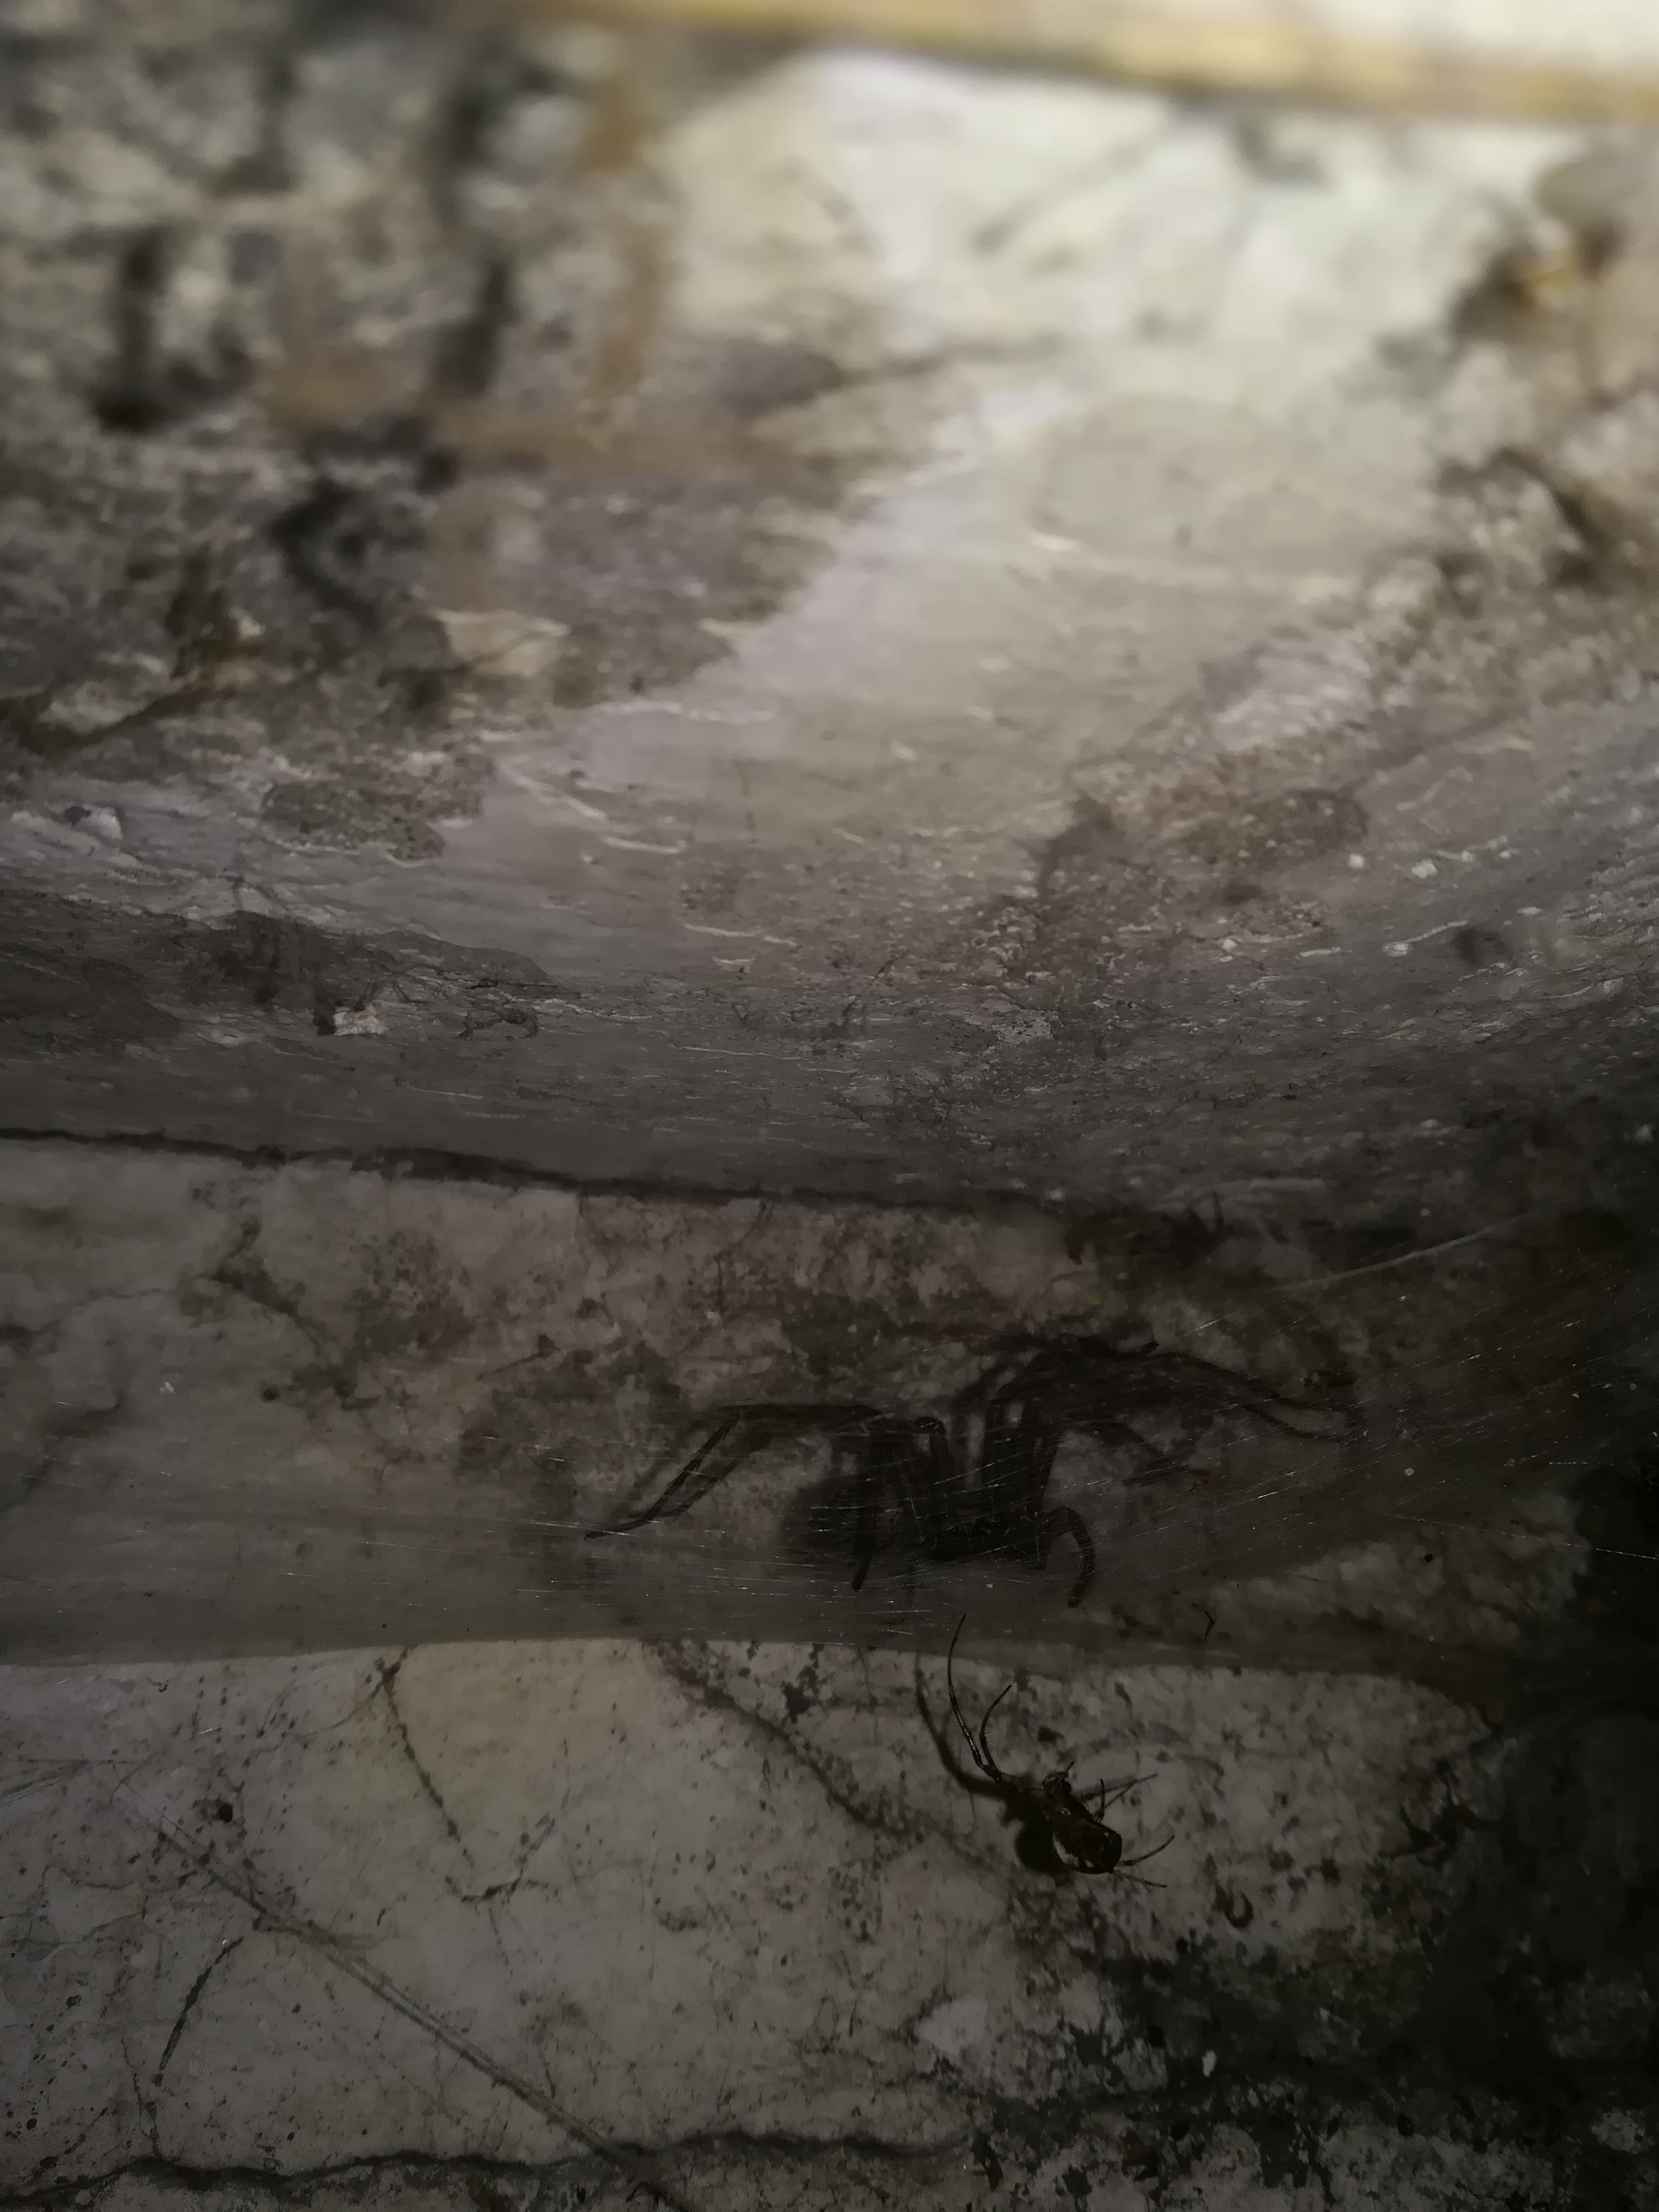spider: (556, 1256, 1398, 1611), (828, 1620, 1279, 1919)
